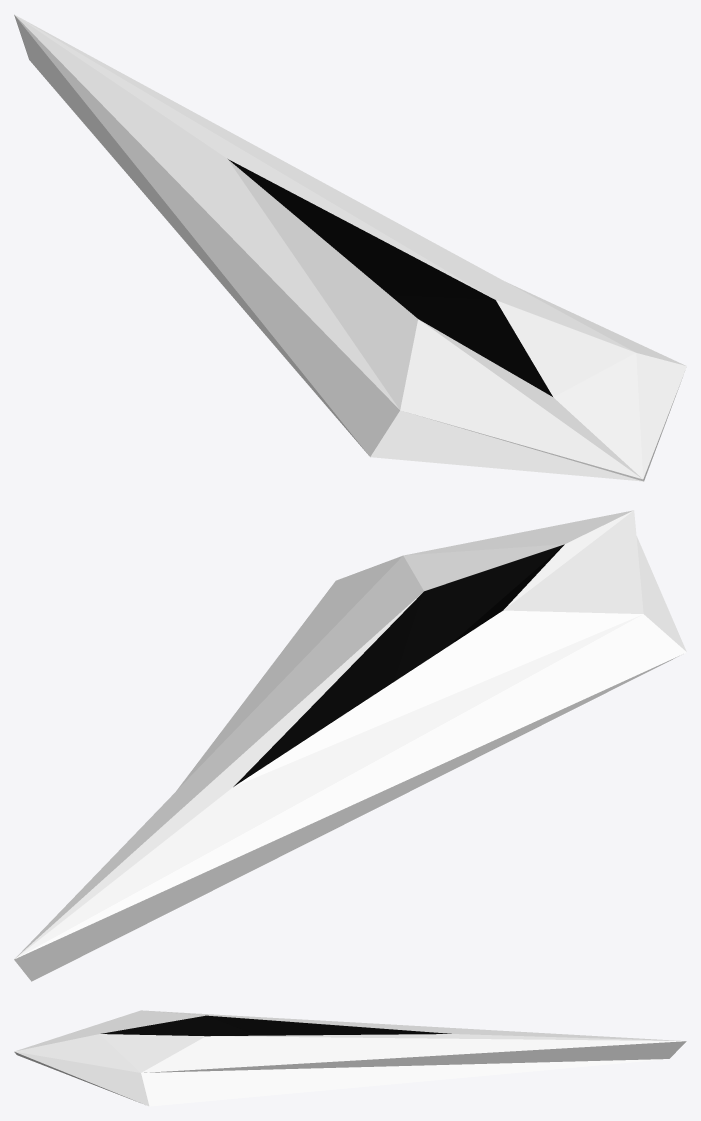
The model's file is missile1_kunai.FBX.
3 views of the same model, one above another, from view 1: azimuth 30°, elevation 25°; view 2: azimuth 150°, elevation 25°; view 3: azimuth 270°, elevation 25° (orthographic). The views are drawn at different scales.
Visible parts, largest first — view 1: missile0; view 2: missile0; view 3: missile0.
Boxes of the visible parts, x1,y1,x2,y2 form: missile0: (14, 14, 686, 481); missile0: (14, 510, 686, 981); missile0: (14, 1010, 686, 1106).
Size of the model in its own units: 0.1585 by 0.0413 by 0.5137.
